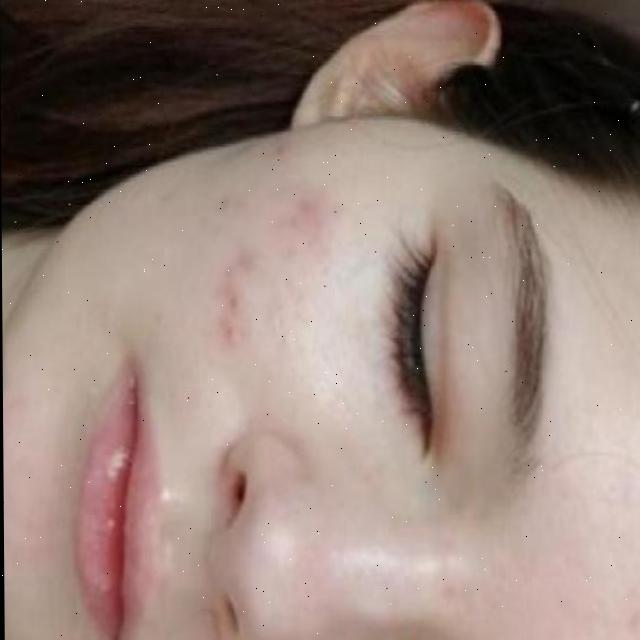Acne: (198, 182, 321, 338)
